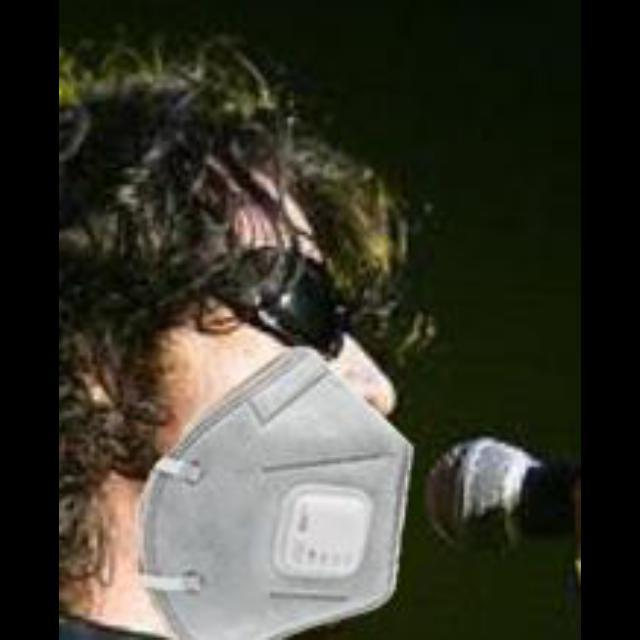suspicion: (67, 114, 486, 636)
